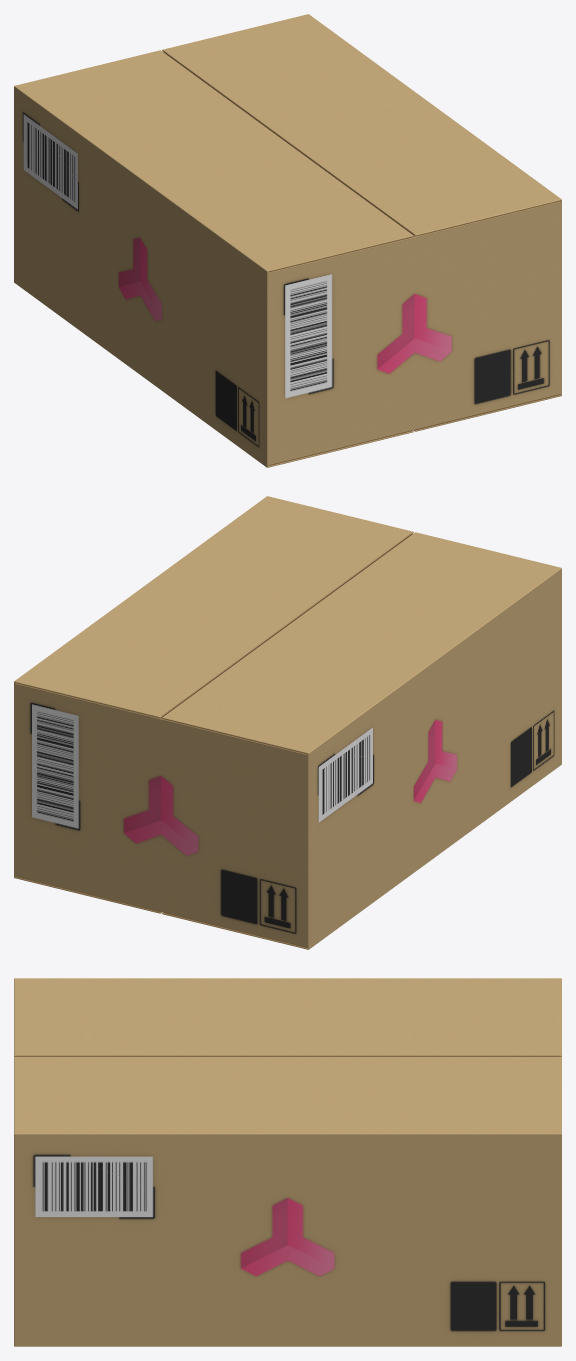
File: CartonBox.glb
3 renders of one model, top to bottom at view 1: azimuth 30°, elevation 25°; view 2: azimuth 150°, elevation 25°; view 3: azimuth 270°, elevation 25°, orthographic. The views are drawn at different scales.
Visible parts, largest first — view 1: Box; view 2: Box; view 3: Box.
Boxes of the visible parts, box(x1,y1,x2,y2) form: Box: box(14, 14, 561, 467); Box: box(14, 496, 561, 949); Box: box(14, 978, 561, 1346).
Bounding box in the file's own units: 0.4 × 0.2551 × 0.595.
1 material, 1 textured.
